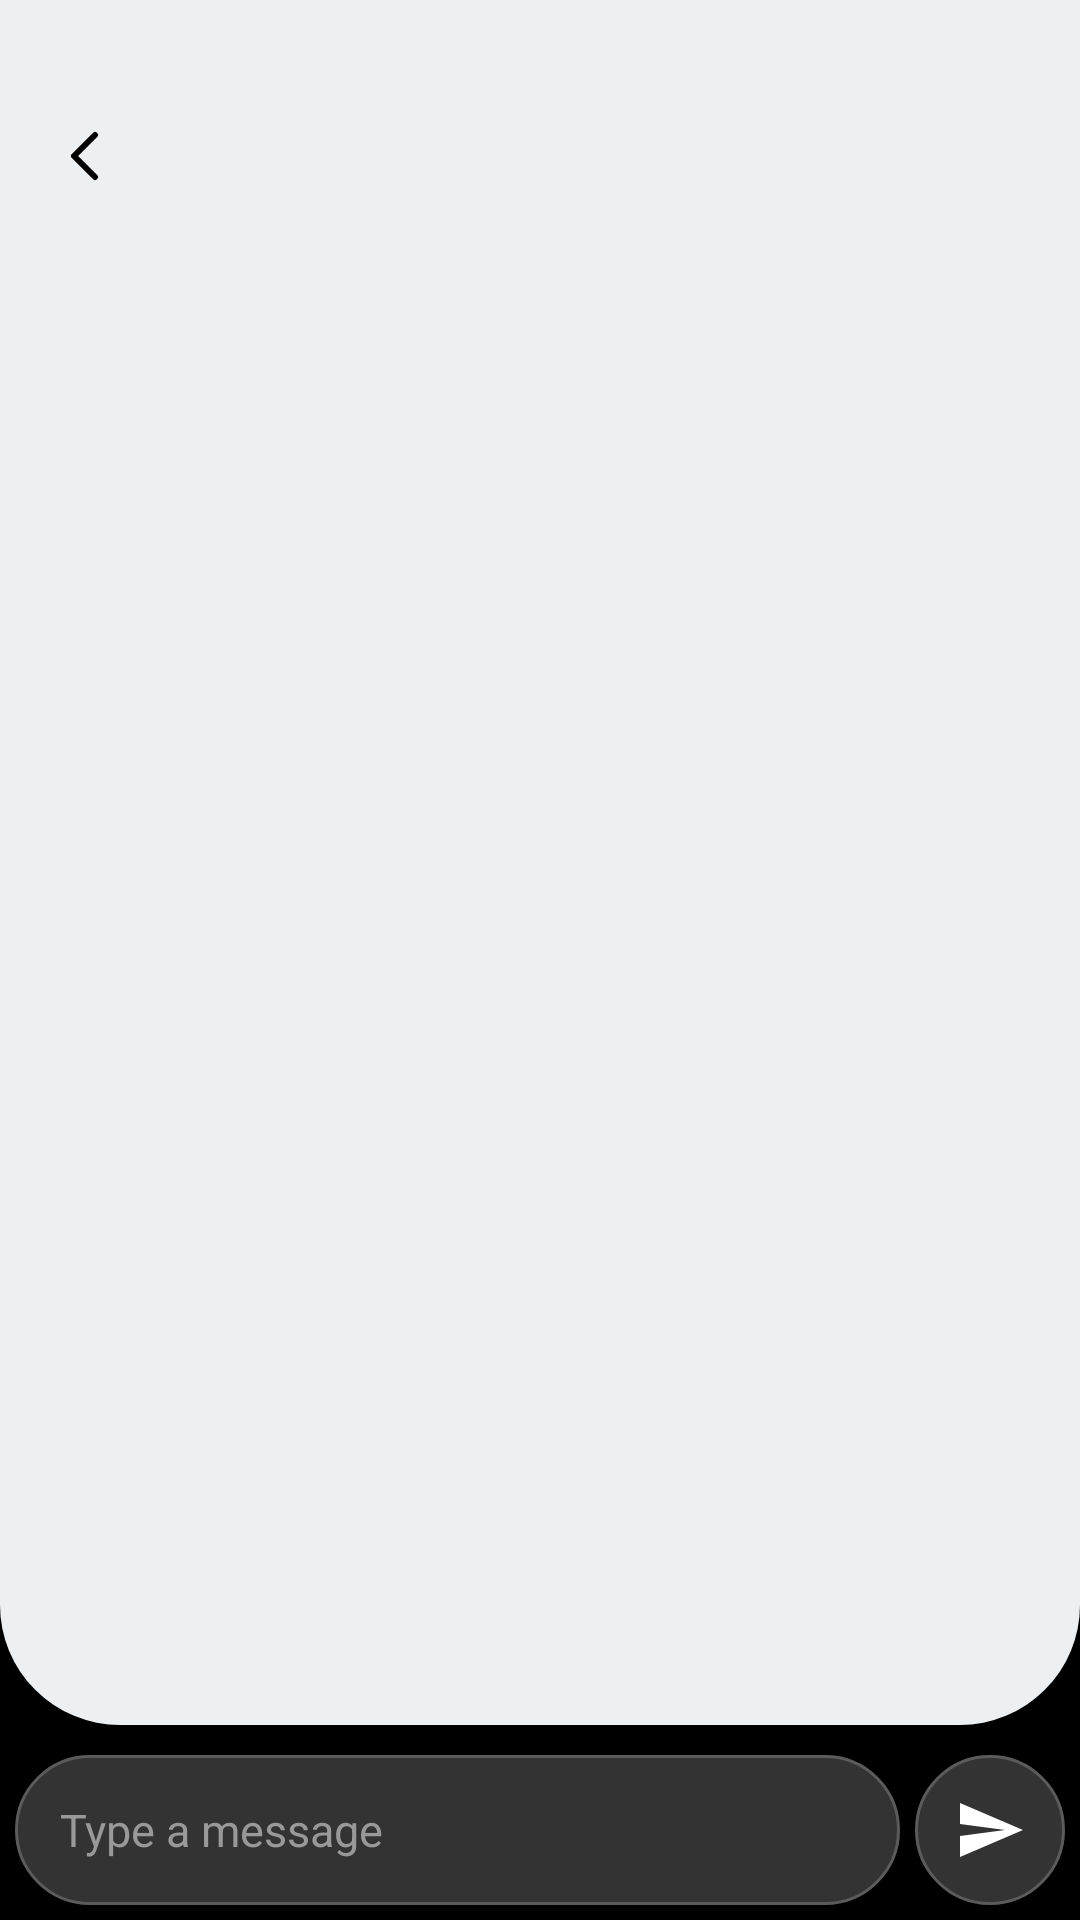

Icons on this 1080×1920 Android screen, each with the point to tap as point (x, y):
Close Page: point (84, 156)
Send: point (990, 1830)
